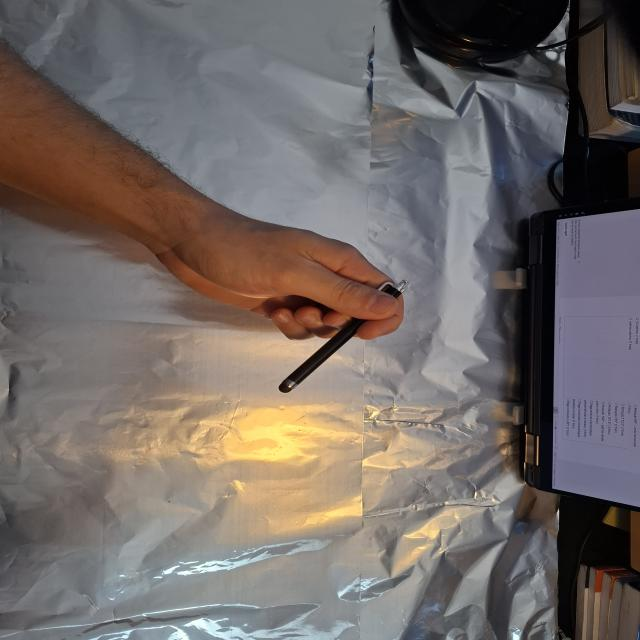glove_off: (148, 211, 410, 342)
